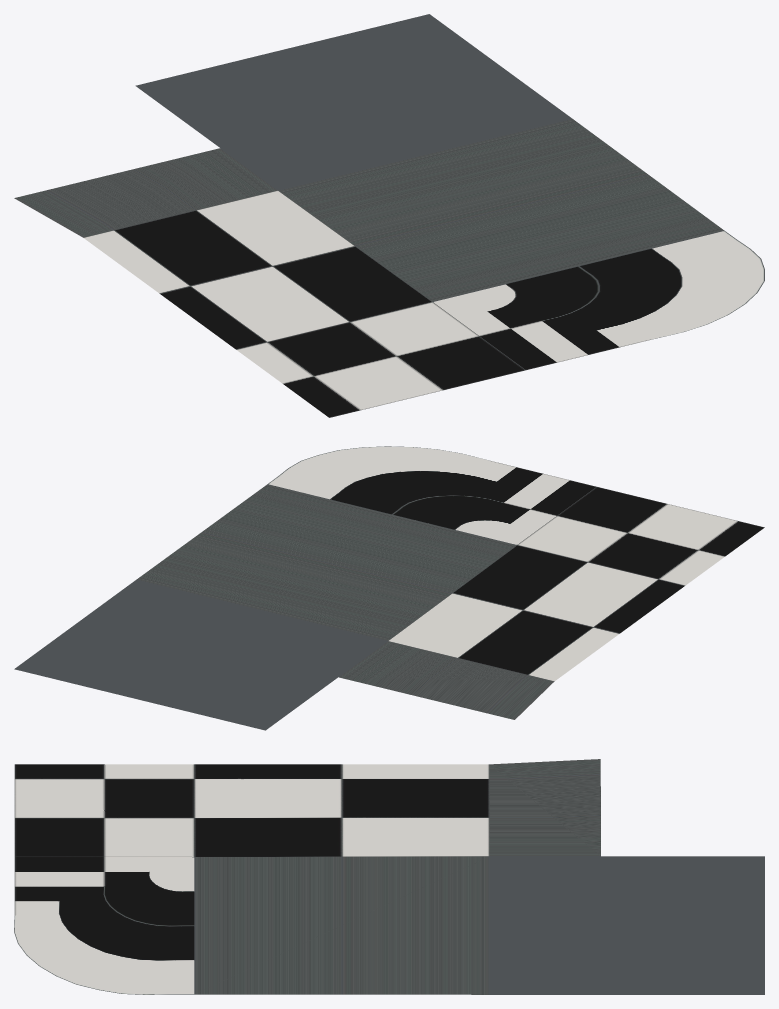
The model's file is floor.fbx.
3 renders of one model, top to bottom at view 1: azimuth 30°, elevation 25°; view 2: azimuth 150°, elevation 25°; view 3: azimuth 270°, elevation 25°, orthographic. The views are drawn at different scales.
Parts seen in each view (by area): view 1: Floor; view 2: Floor; view 3: Floor.
Boxes of the visible parts, x1,y1,x2,y2 form: Floor: [14, 14, 764, 417]; Floor: [14, 446, 764, 730]; Floor: [14, 759, 764, 994].
Bounding box in the file's own units: 1155 × 0.7182 × 1555.
1 material, 1 textured.
